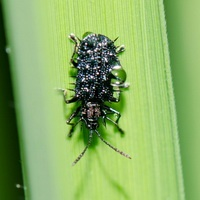insect: (63, 32, 130, 164)
